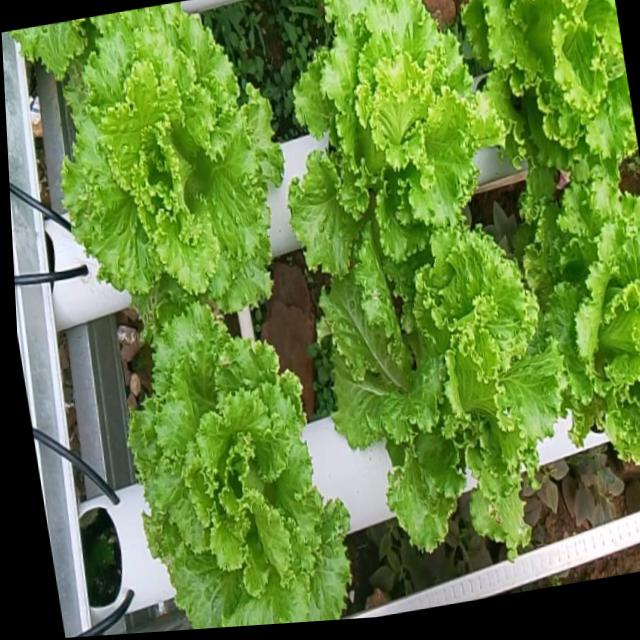Mature: (323, 225, 562, 597), (28, 1, 286, 327), (129, 302, 353, 629), (290, 0, 507, 279), (467, 0, 640, 199), (527, 183, 640, 469)
